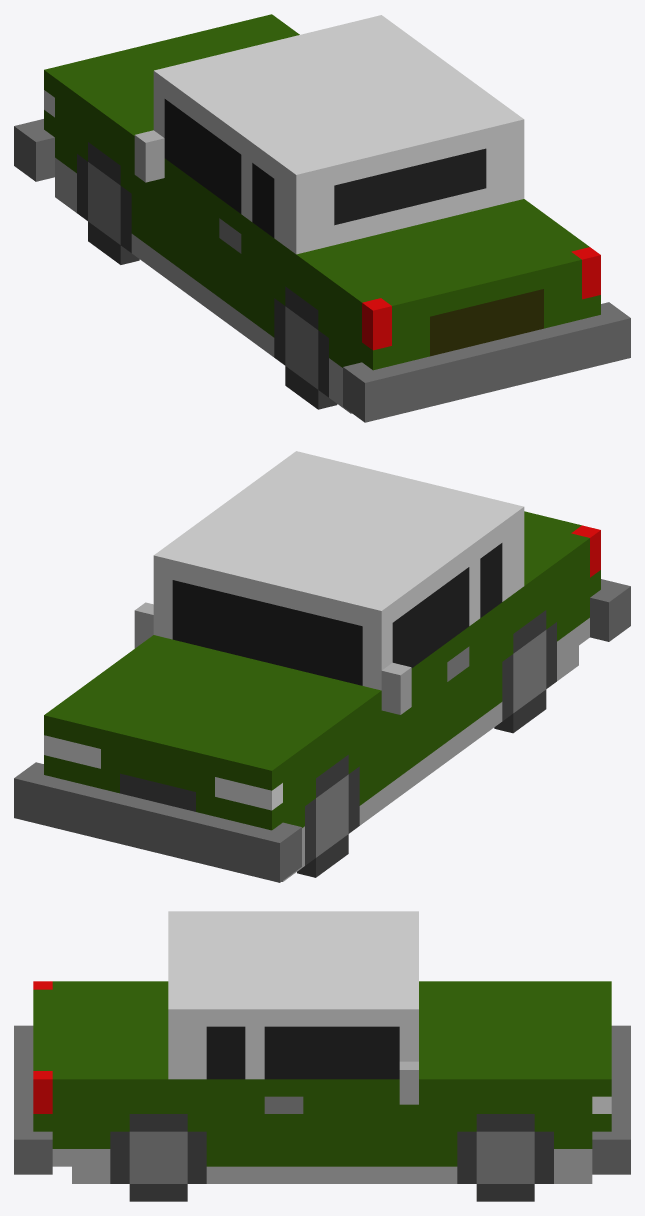
File: veh_car5.obj
3 renders of one model, top to bottom at view 1: azimuth 30°, elevation 25°; view 2: azimuth 150°, elevation 25°; view 3: azimuth 270°, elevation 25°, orthographic. The views are drawn at different scales.
Bounding box in the file's own units: 1.4 × 1.1 × 3.2.
1 material, 1 textured.
